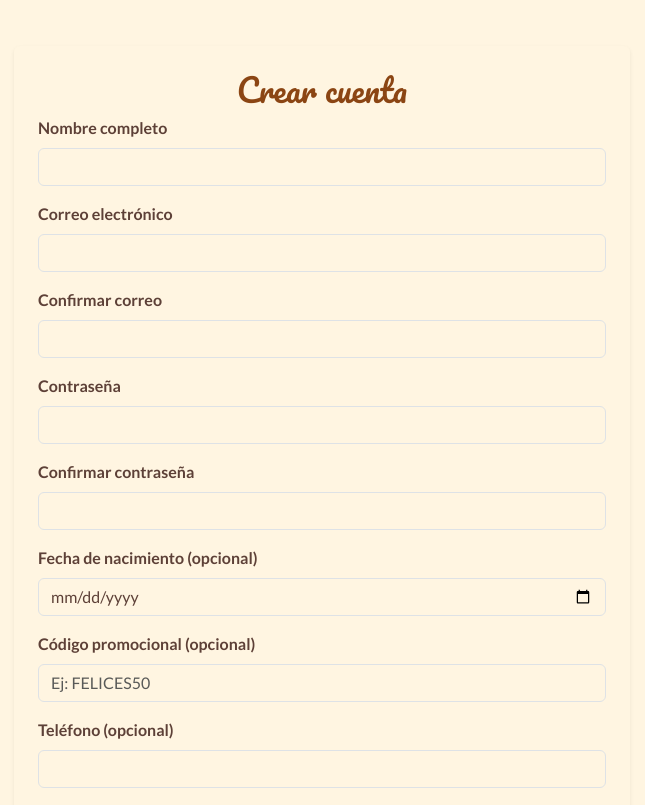
Scenario: <Registro /> › un código promocional inventado se rechaza
The width and height of the screenshot is (645, 805).
Type "Ana Pérez" into the field labelled "Nombre completo". click: (322, 167)
box: [38, 148, 606, 186]
Type "ana@duoc.cl" into the field labelled "Correo electrónico". click: (322, 253)
box: [38, 234, 606, 272]
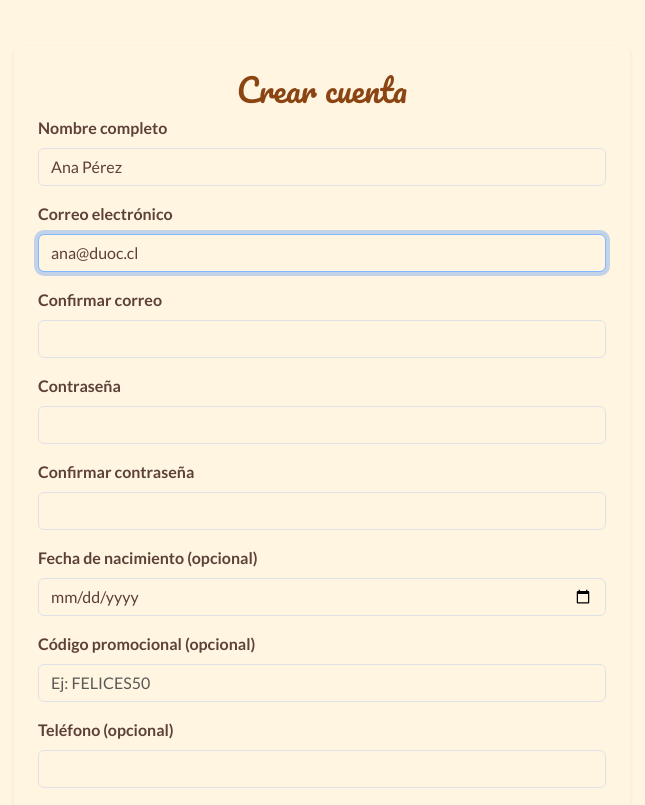
Type "ana@duoc.cl" into the field labelled "Confirmar correo". click: (322, 339)
box: [38, 320, 606, 358]
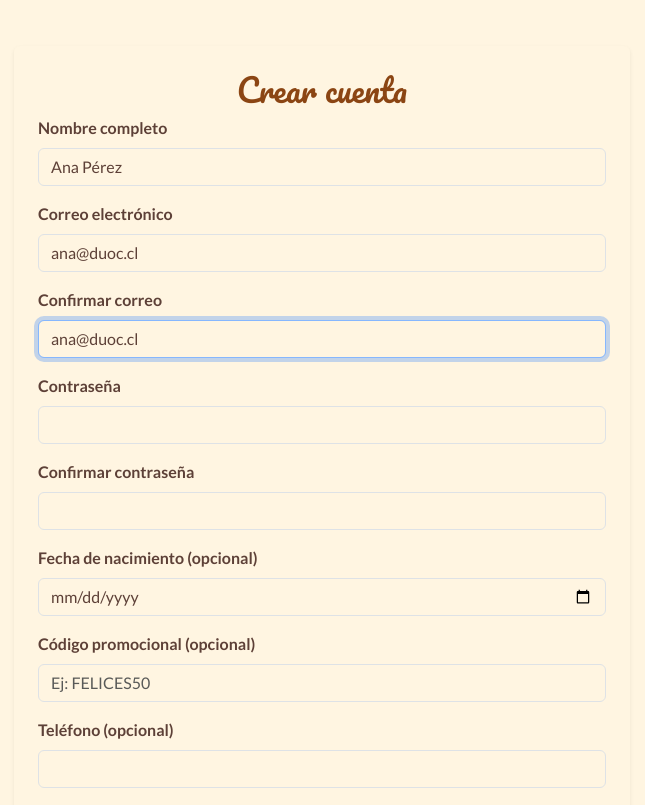
Type "clave123" into the password field labelled "Contraseña". click: (322, 425)
box: [38, 406, 606, 444]
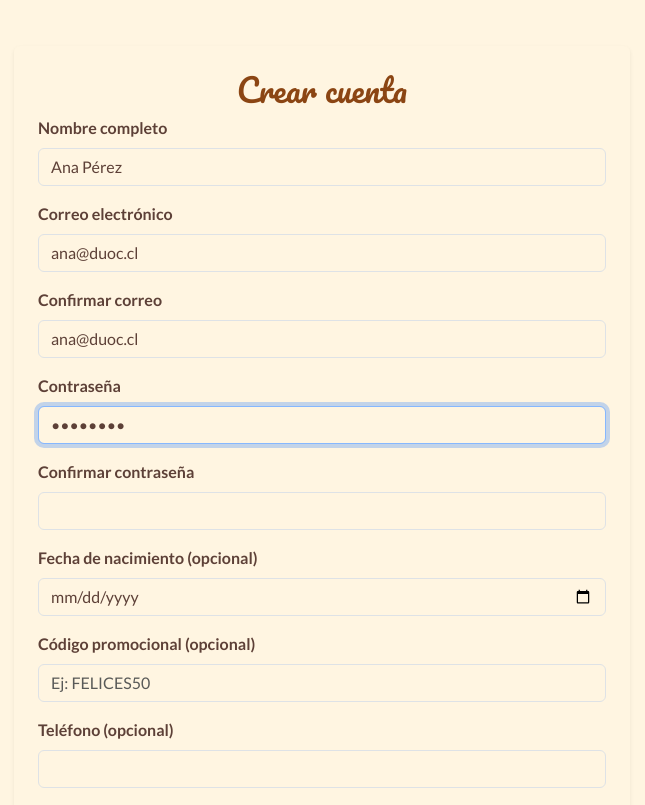
Type "clave123" into the password field labelled "Confirmar contraseña". click: (322, 511)
box: [38, 492, 606, 530]
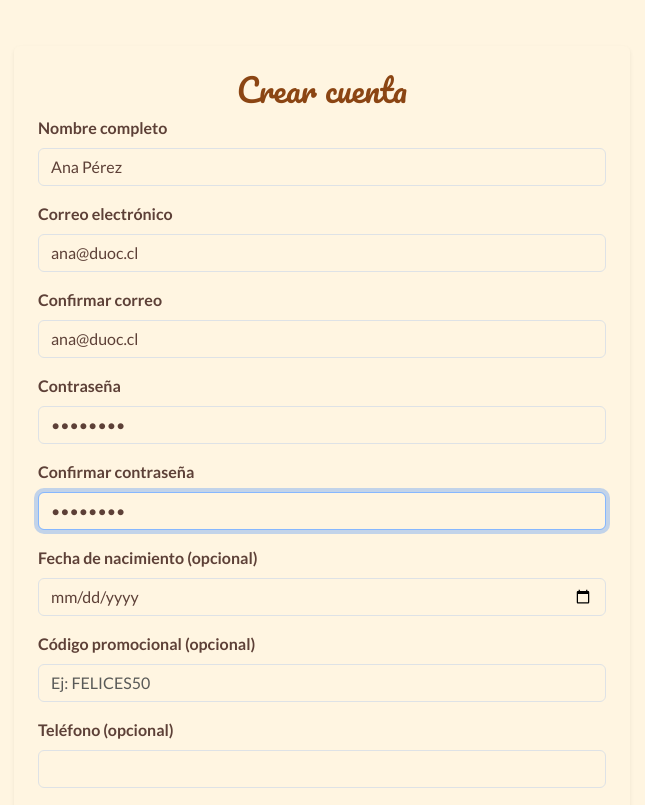
Type "INVENTADO" into the field labelled "Código promocional (opcional)". click: (322, 683)
box: [38, 664, 606, 702]
(page scrolled)
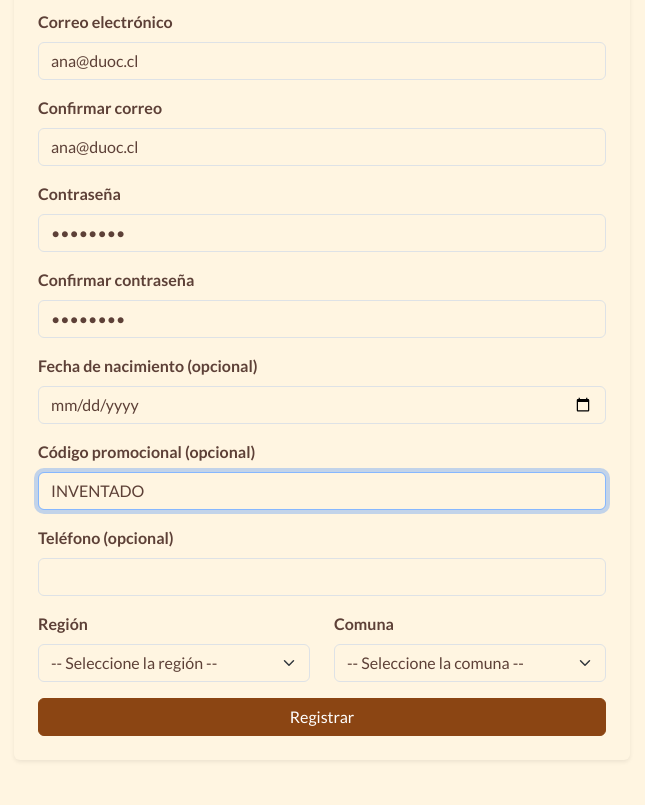
Click the button "Registrar". click: (322, 717)
box: [38, 698, 606, 736]
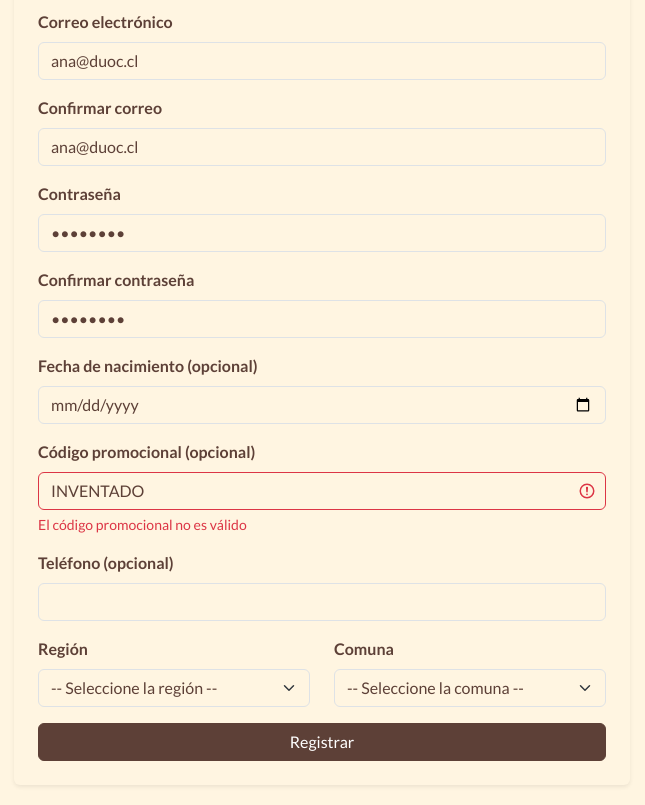
Now the text "El código promocional no es válido" is shown, box [38, 516, 247, 533]
